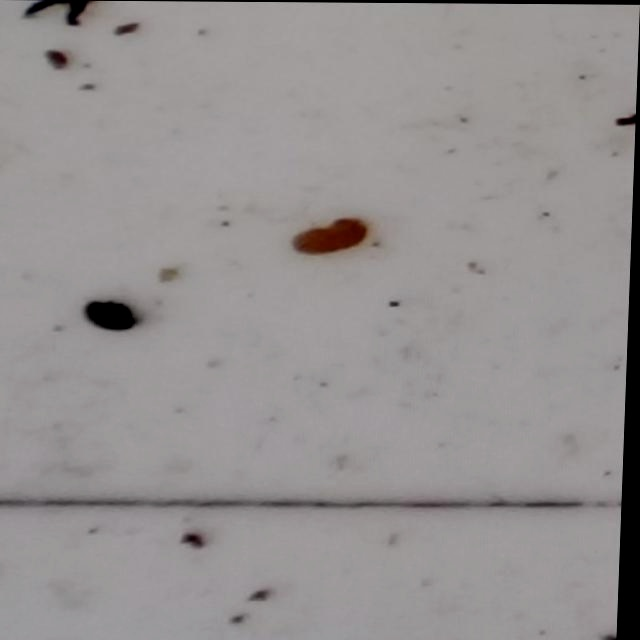varroa: (89, 300, 144, 333)
